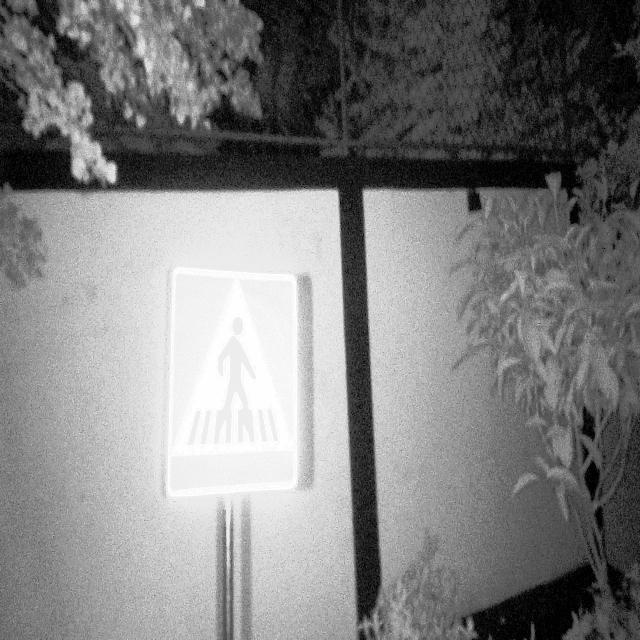Sign: (164, 262, 301, 504)
